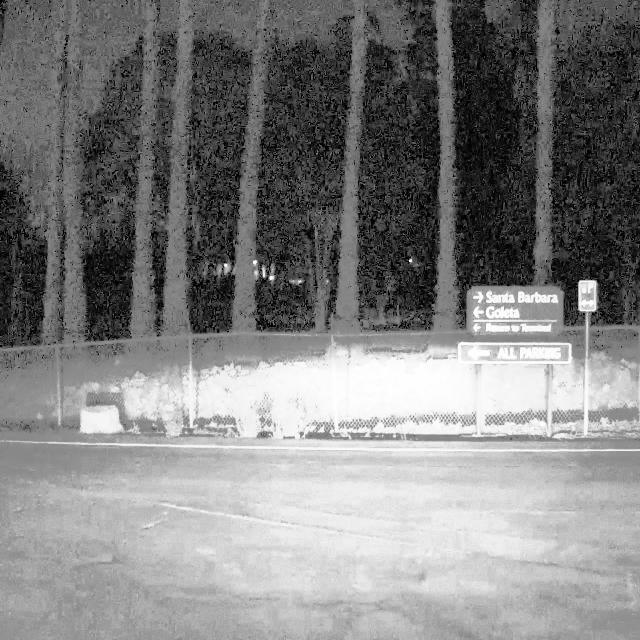Sign: (466, 286, 564, 336), (458, 344, 572, 365), (579, 280, 597, 311)
